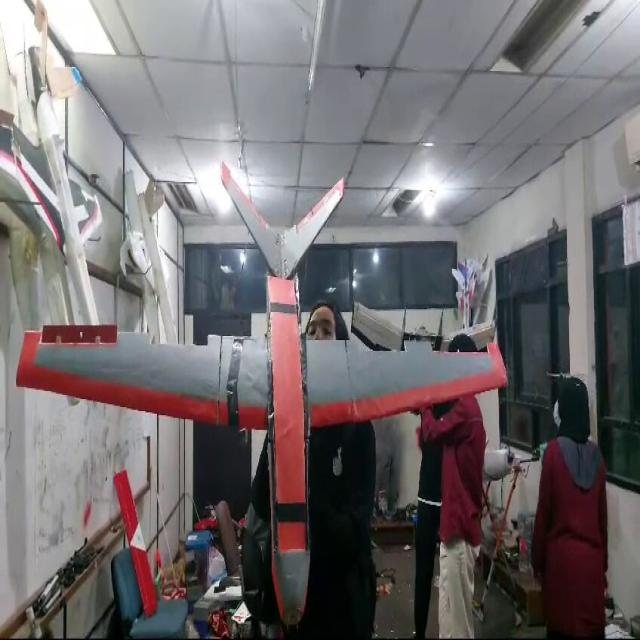plane: (14, 160, 508, 634)
